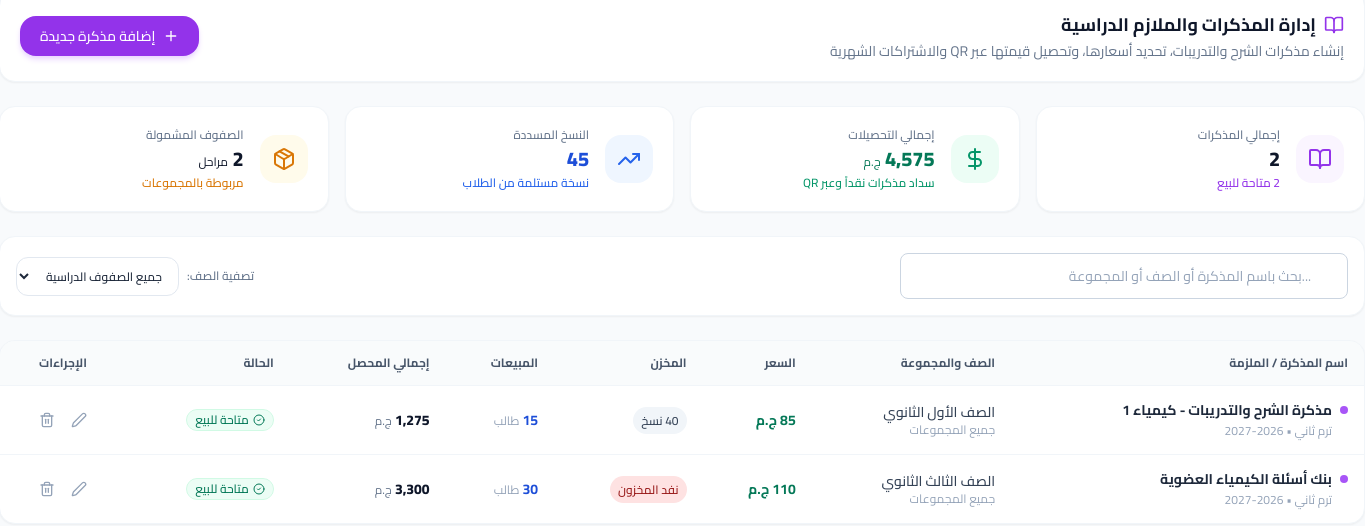
it: BookletManagementSection Component › filters booklets by search term and grade level
In the field with placeholder "بحث باسم المذكرة أو الصف أو المجموعة...": coordinates (1124, 276) [900, 253, 1348, 299], type "العضوية"
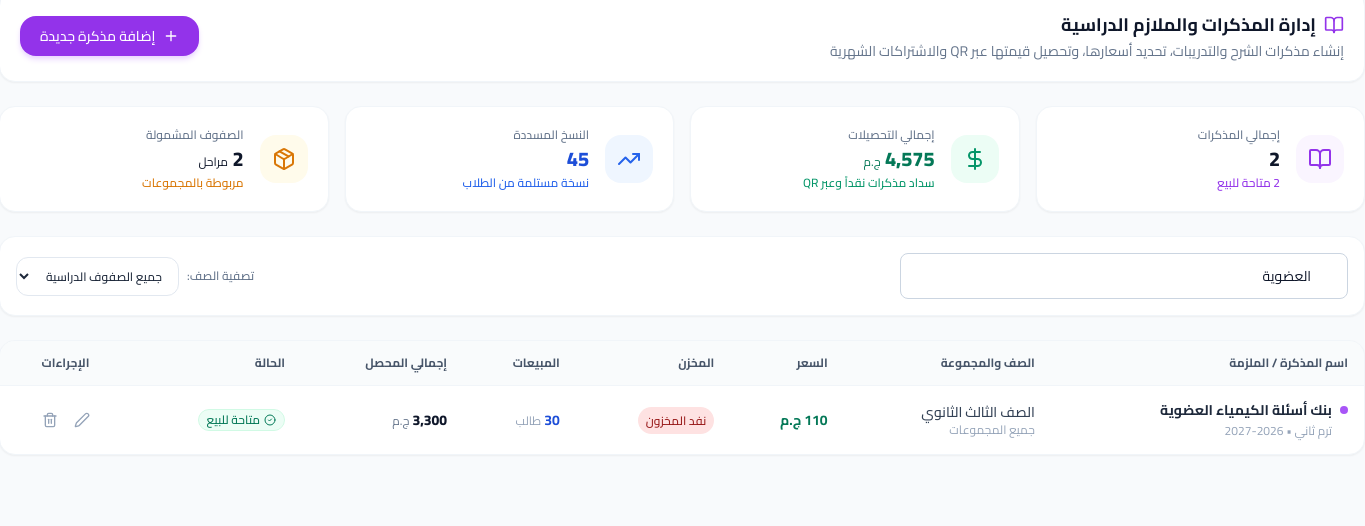
Expected: the text "بنك أسئلة الكيمياء العضوية" is shown, [1160, 397, 1348, 423]
Expected: the text "مذكرة الشرح والتدريبات - كيمياء 1" is gone
